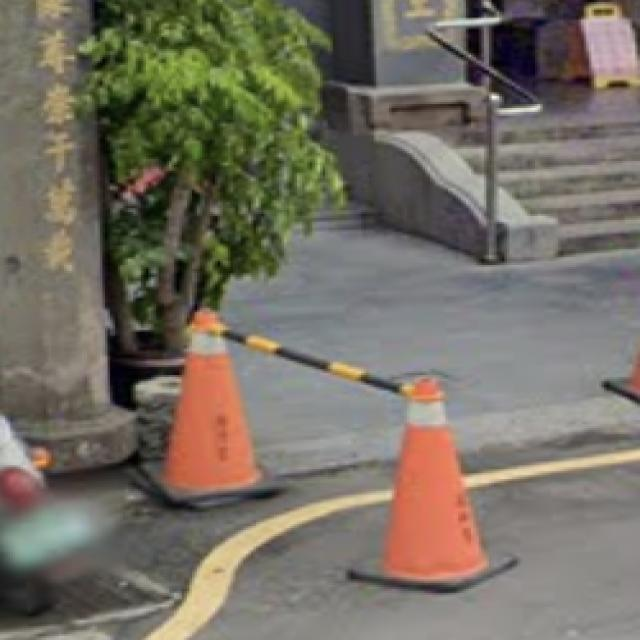cone: (356, 365, 496, 592), (148, 302, 264, 498)
